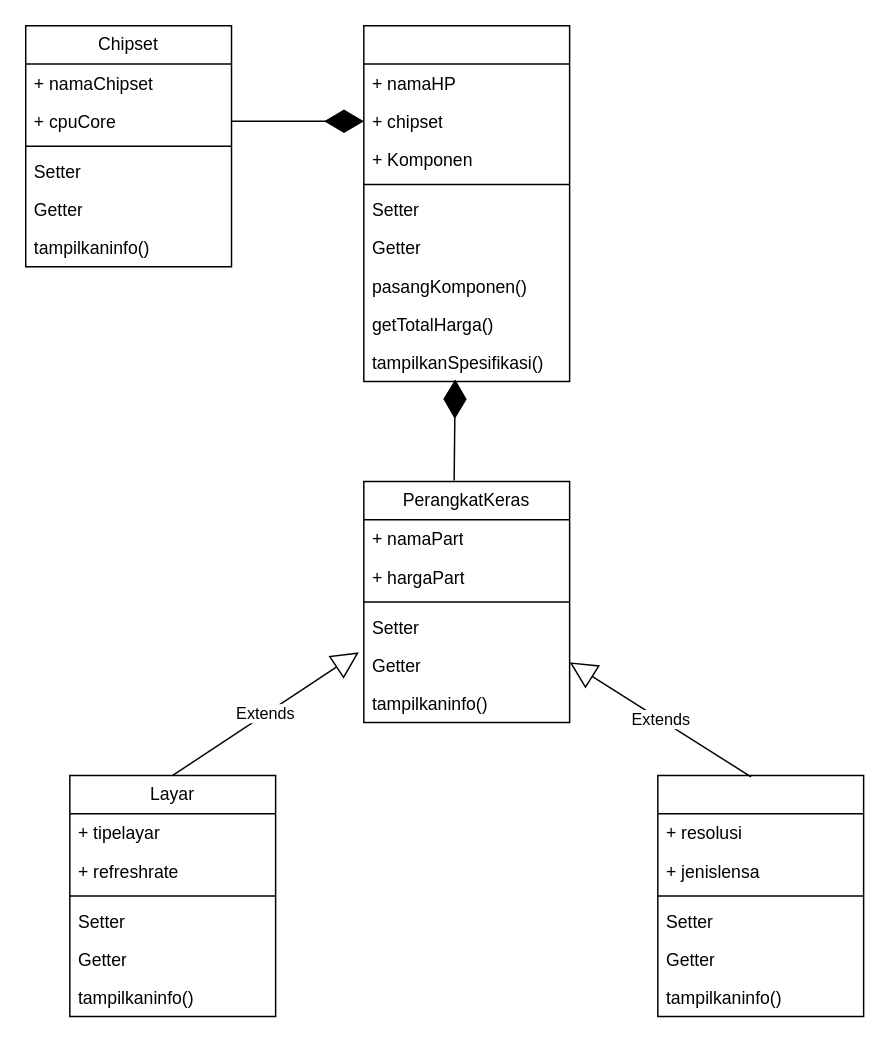
Image size: 889x1047. Some labels were removed from this diagram. The shapes that lost their labels are listed below. From the top down, each one's box as (x1, y1, x2, y2) in pixels, then its label:
(362, 24, 570, 381): Handphone
(656, 774, 864, 1017): Kamera
